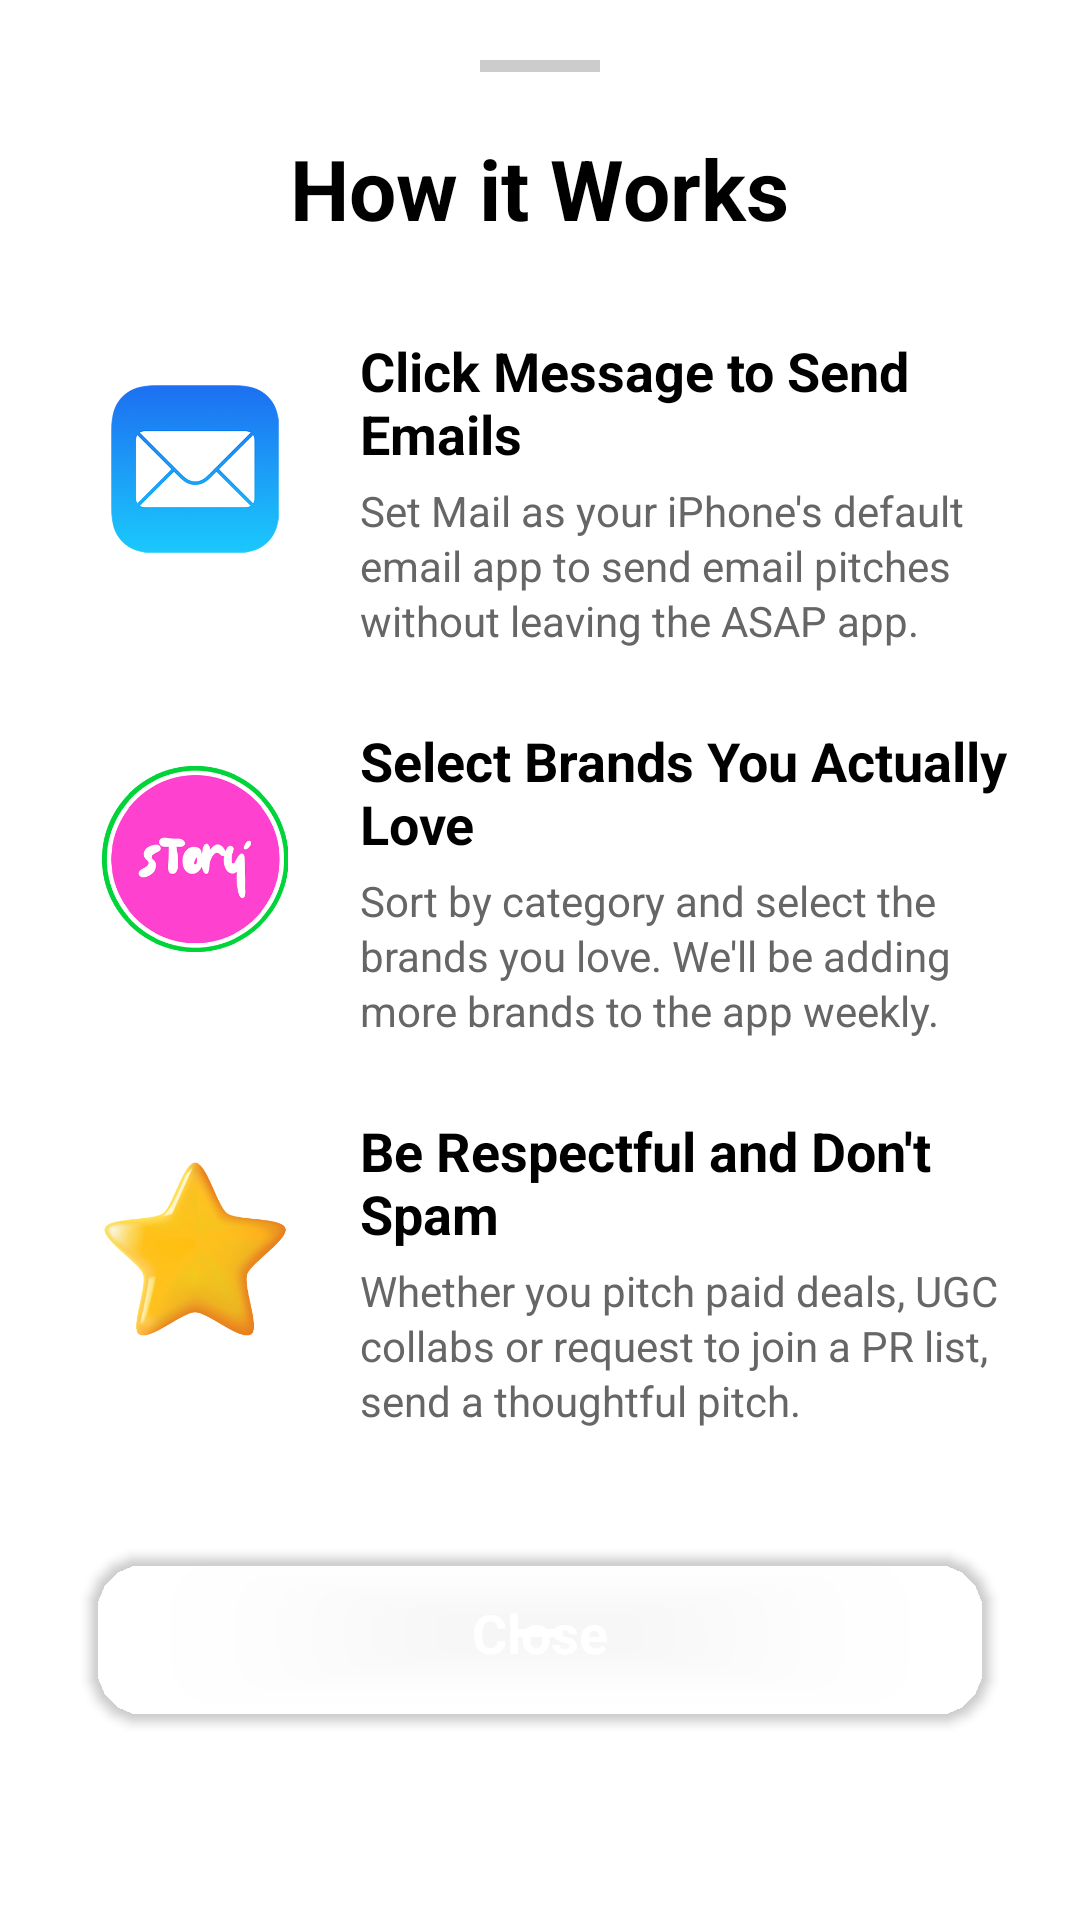

Named icons in this screenshot (1080w x 1920h) and their bounding boxes, {"x1": x1, "y1": y1, "x2": x2, "y2": y2}:
star: {"x1": 104, "y1": 1162, "x2": 286, "y2": 1336}
